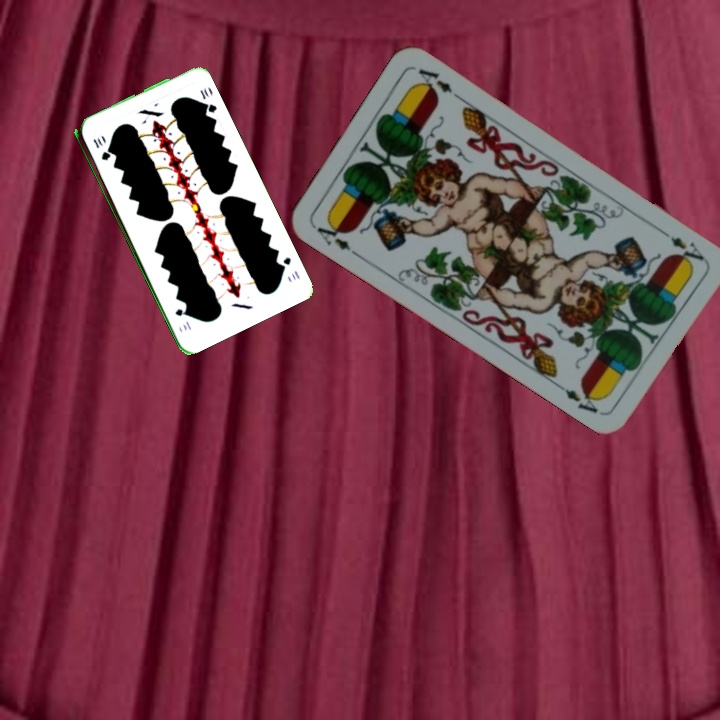EA: (310, 215, 363, 260), (655, 224, 707, 263)
G10: (276, 253, 302, 281), (89, 134, 111, 163)
